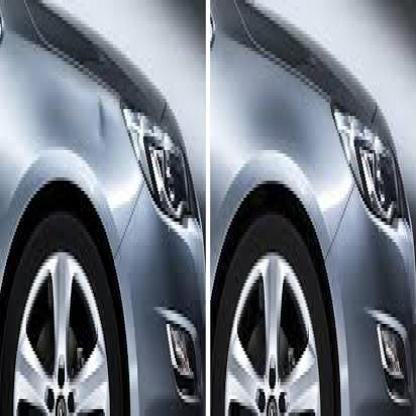dent: (92, 90, 114, 156)
